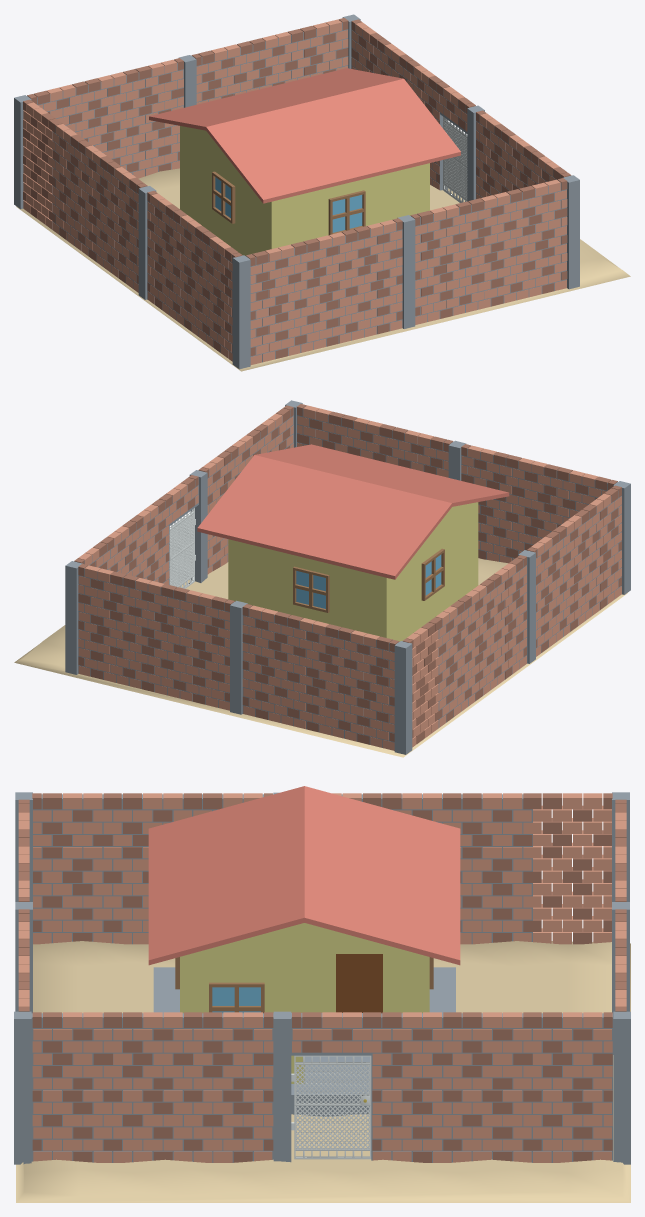
The model's file is casareboco.fbx.
3 renders of one model, top to bottom at view 1: azimuth 30°, elevation 25°; view 2: azimuth 150°, elevation 25°; view 3: azimuth 270°, elevation 25°, orthographic. The views are drawn at different scales.
Parts seen in each view (by area): view 1: Cube.003; view 2: Cube.003; view 3: Cube.003.
Part boxes in pixels (x1,y1,x2,y2): Cube.003: (14,14,630,371); Cube.003: (14,400,630,757); Cube.003: (14,786,630,1202).
Bounding box in the file's own units: 1113 × 422 × 1112.
